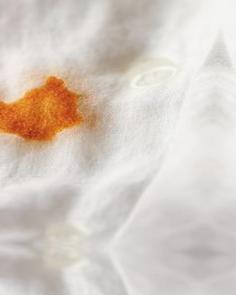stain: (1, 73, 98, 149)
